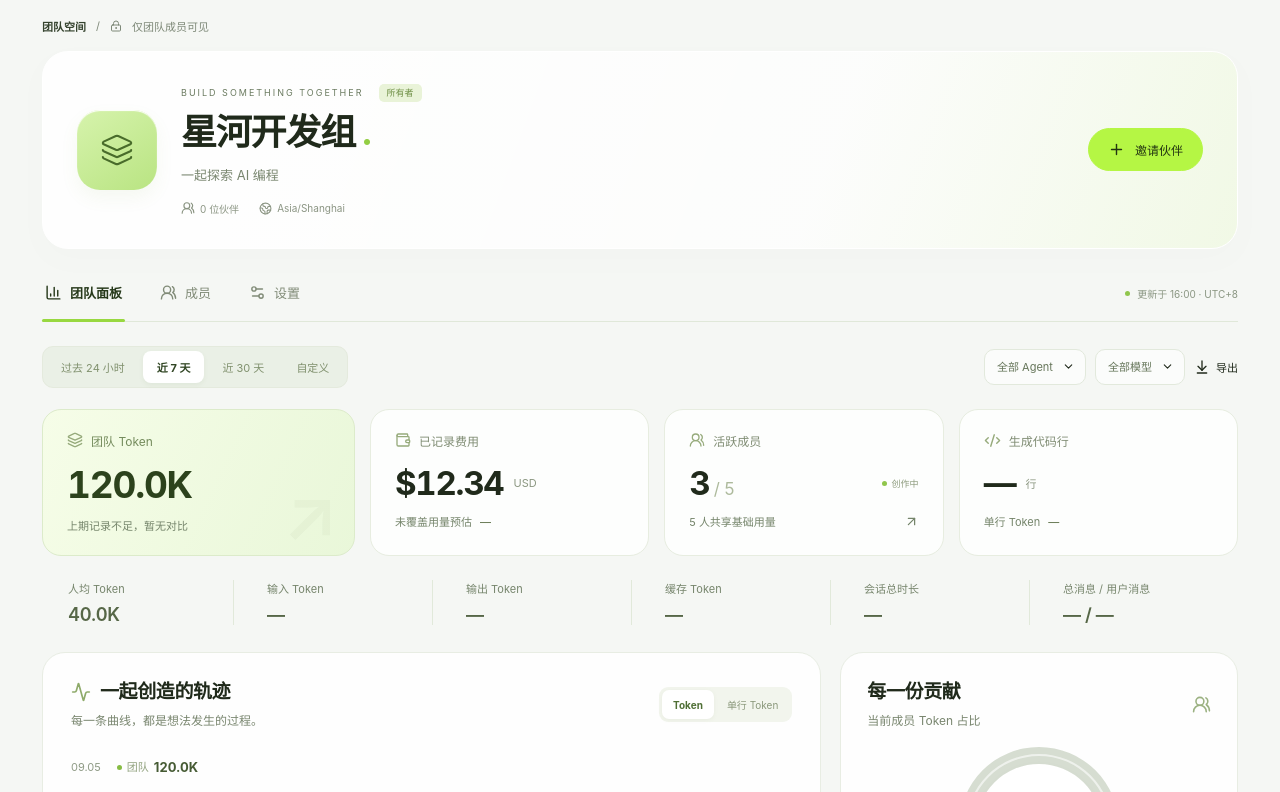
Test: Team page tabs › puts the data panel first, then members and settings, with dates only on the panel
The image size is (1280, 792).
Click the link "成员" at x=186, y=292, box [160,284,211,301]
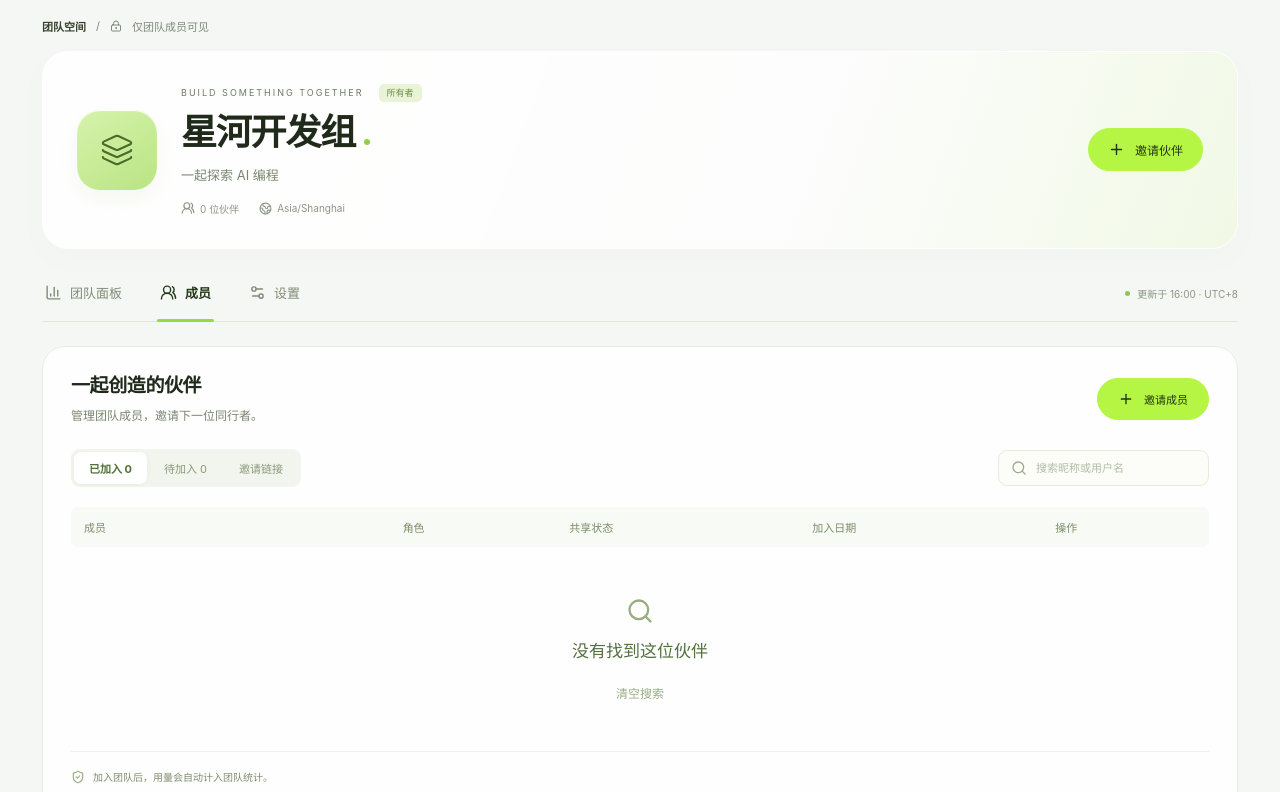
Check: the button "已加入 0" is shown, box [74,452,147,484]
Check: the tab "近 7 天" is gone
Click the link "设置" at x=274, y=292, box [249,284,300,301]
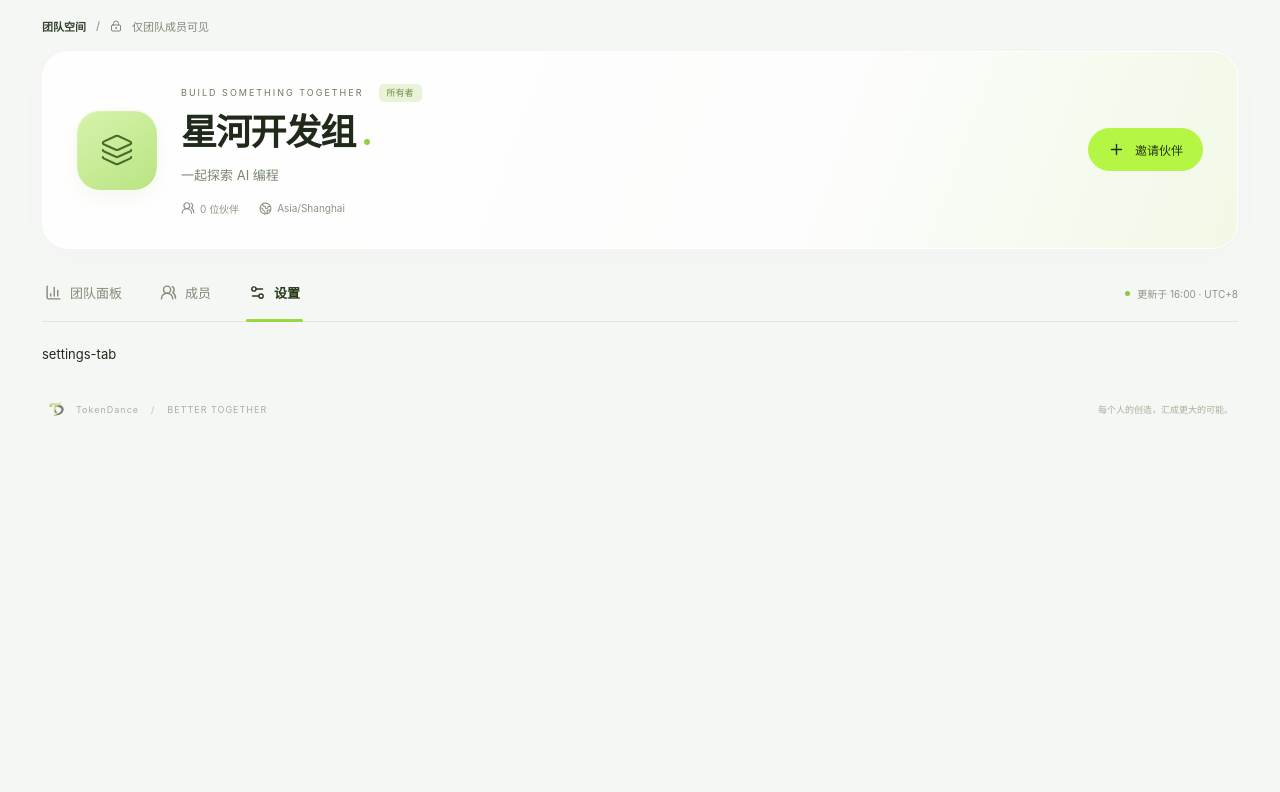
Check: the tab "近 7 天" is not shown
Check: the text "settings-tab" is shown, box [42,346,116,362]
